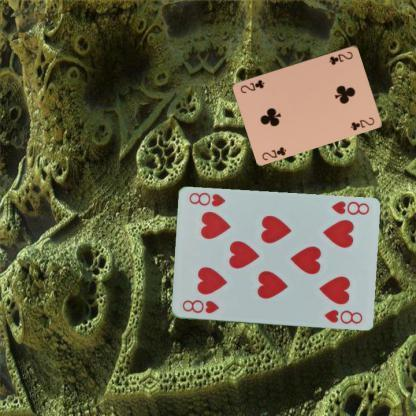2c: (326, 48, 354, 66), (259, 144, 288, 161)
8h: (328, 198, 370, 216), (180, 297, 221, 315)
